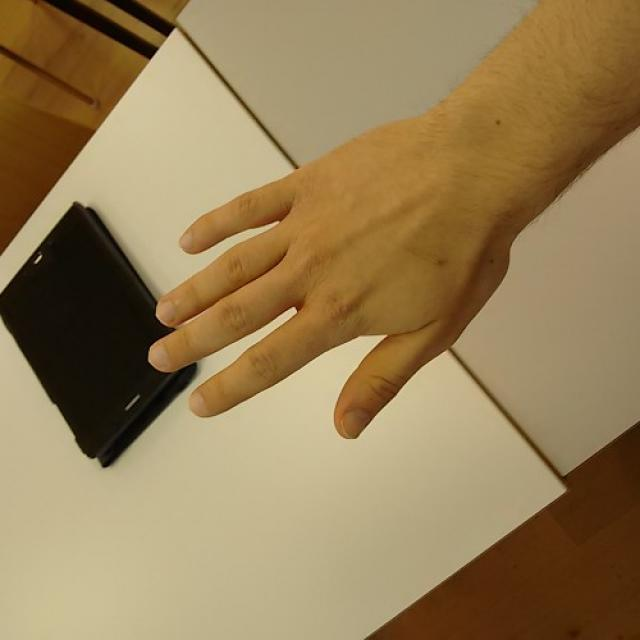paper: (152, 118, 516, 441)
